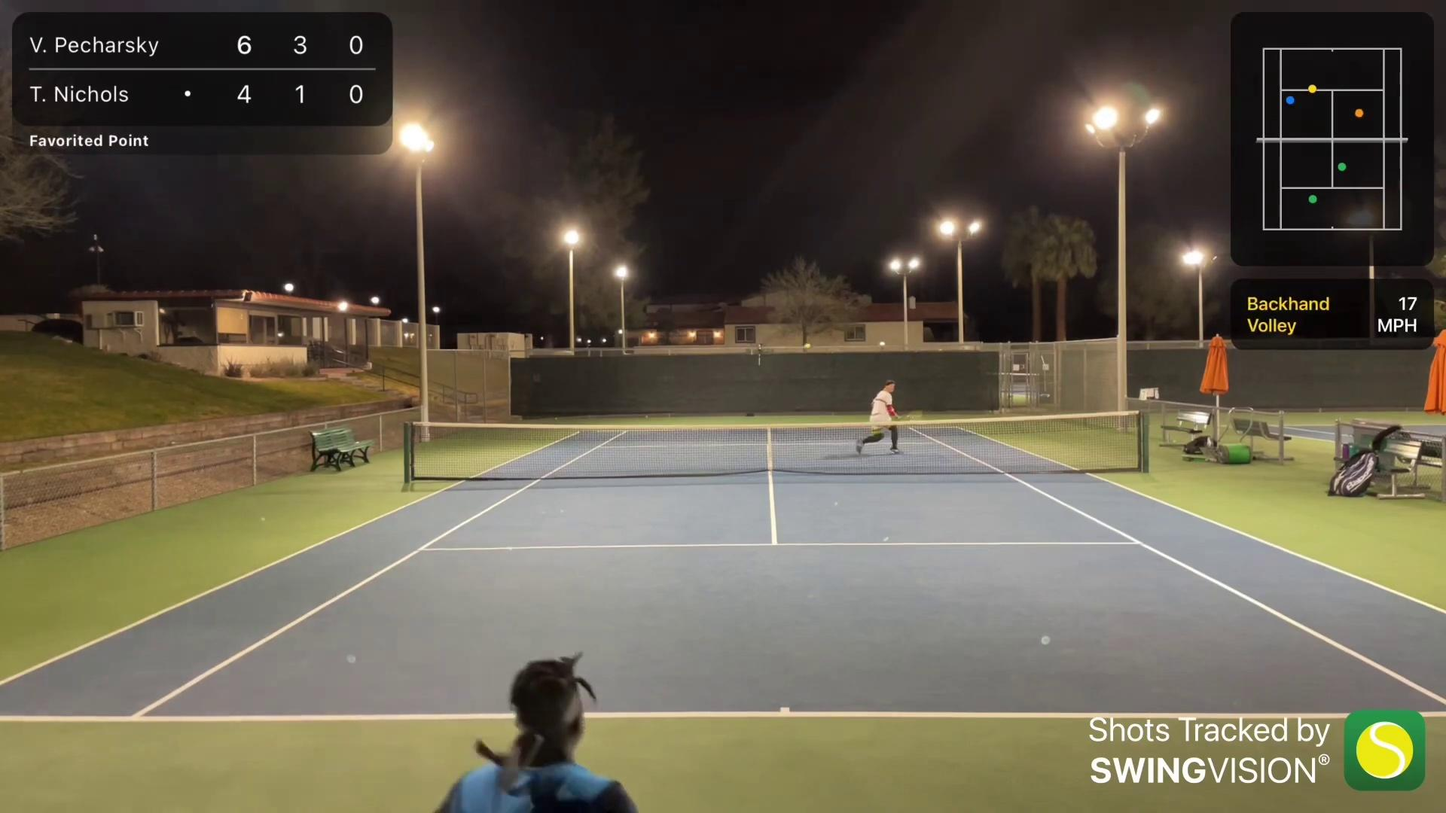ball: (804, 344, 810, 350)
